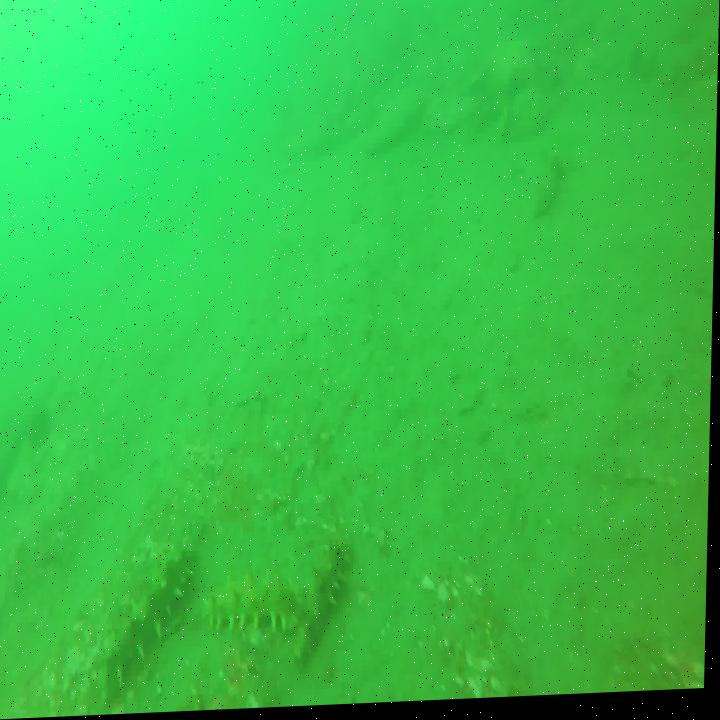holothurian: (103, 551, 200, 714), (293, 544, 359, 669), (203, 576, 305, 641)
